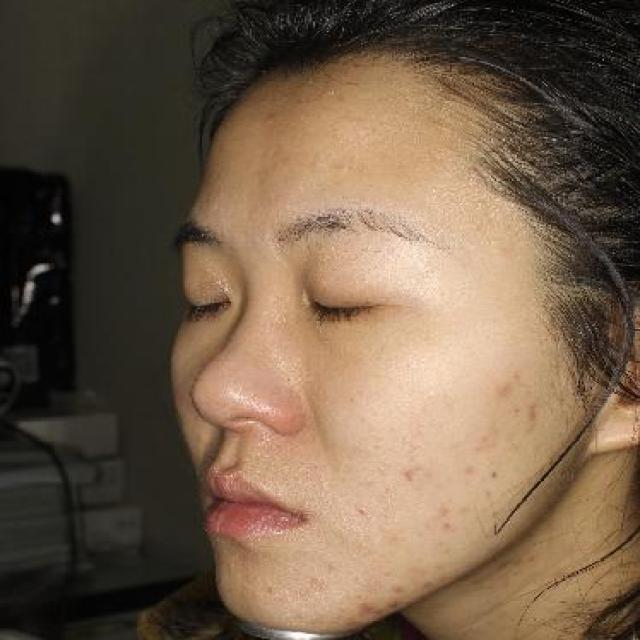Acne: (491, 369, 525, 406), (392, 463, 440, 488), (431, 502, 462, 536)
Blackheads: (482, 463, 507, 483)
Whiteheads: (330, 158, 358, 177), (351, 505, 375, 523)
